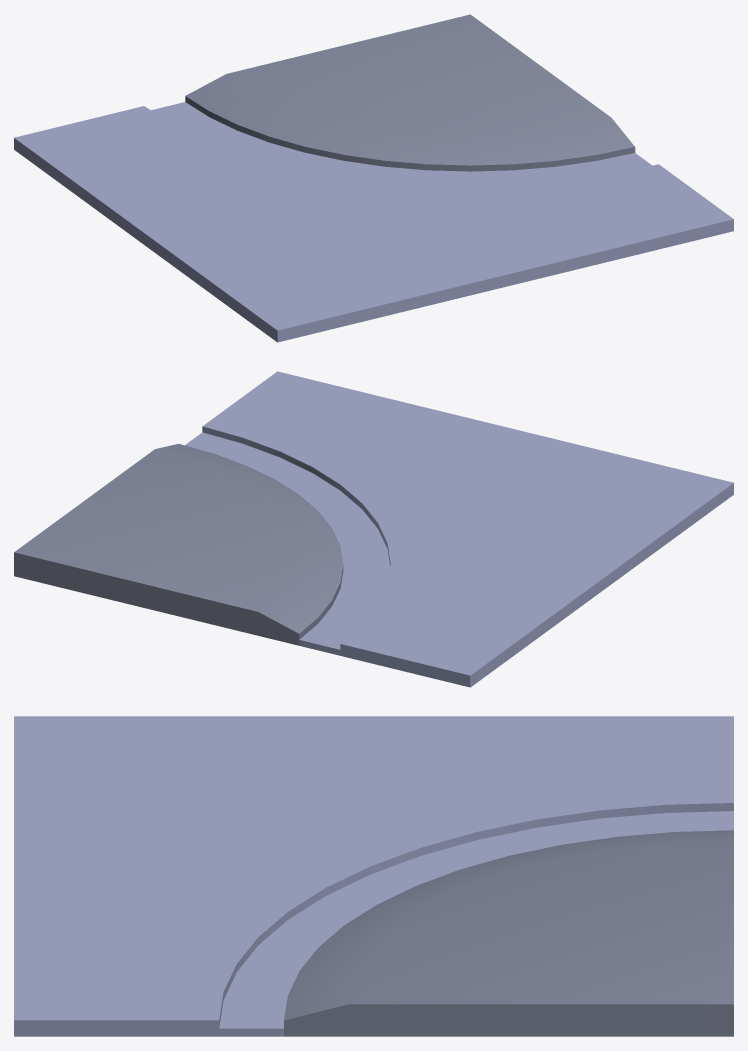
File: road-corner.glb
3 renders of one model, top to bottom at view 1: azimuth 30°, elevation 25°; view 2: azimuth 150°, elevation 25°; view 3: azimuth 270°, elevation 25°, orthographic. The views are drawn at different scales.
Visible parts, largest first — view 1: road-corner; view 2: road-corner; view 3: road-corner.
Part boxes in pixels (<box>): road-corner: <box>14,14,733,342</box>; road-corner: <box>14,371,733,687</box>; road-corner: <box>14,716,733,1036</box>.
Bounding box in the file's own units: 1 × 0.05 × 1.
1 material, 1 textured.
